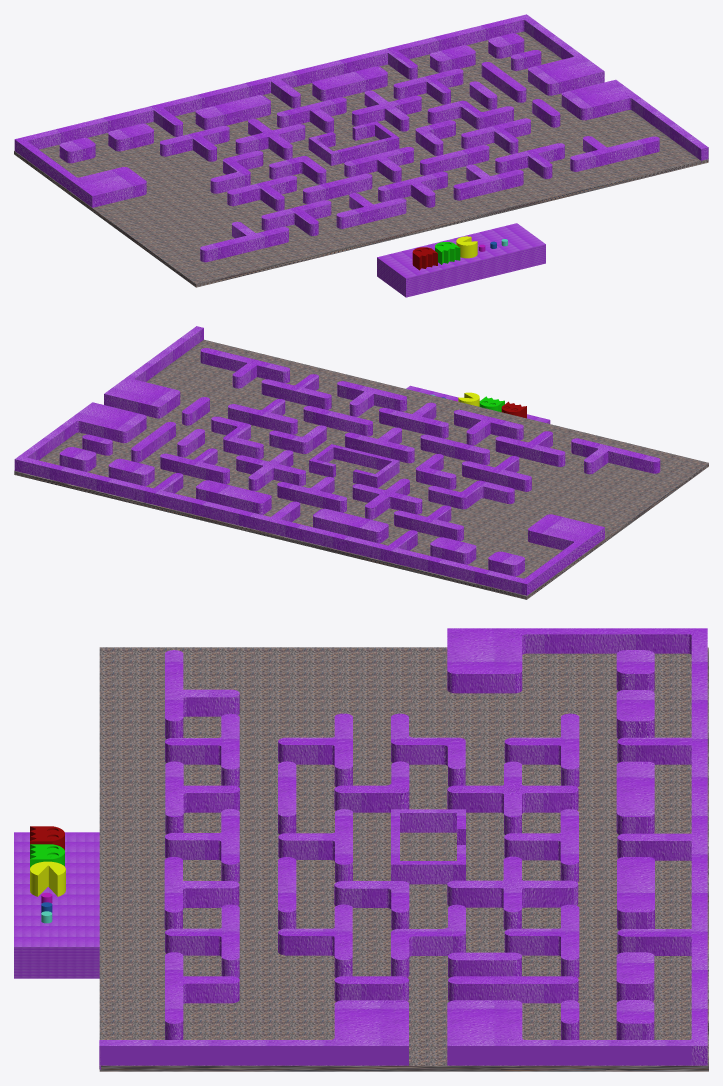
File: texturedMaze4.obj
The picture shows the model from 3 angles, top to bottom: view 1: azimuth 30°, elevation 25°; view 2: azimuth 150°, elevation 25°; view 3: azimuth 270°, elevation 25°; orthographic projection. The views are drawn at different scales.
Parts seen in each view (by area): view 1: floor_floor_Plane_Material.001_floor_Plane_Material.001_Mat.006, floor_floor_Plane_Material.001_floor_Plane_Material.001_Mat.008, Cube.001_Cube.002, Cube.002_Cube.003, floor_floor_Plane_Material.001_floor_Plane_Material.001_Mat.002, floor_floor_Plane_Material.001_floor_Plane_Material.001_Mat.003; view 2: floor_floor_Plane_Material.001_floor_Plane_Material.001_Mat.006, floor_floor_Plane_Material.001_floor_Plane_Material.001_Mat.008, Cube.001_Cube.002, Cube.002_Cube.003; view 3: floor_floor_Plane_Material.001_floor_Plane_Material.001_Mat.008, floor_floor_Plane_Material.001_floor_Plane_Material.001_Mat.006, Cube.001_Cube.002, floor_floor_Plane_Material.001_floor_Plane_Material.001_Mat.000.
Part boxes in pixels (<box>): floor_floor_Plane_Material.001_floor_Plane_Material.001_Mat.006: <box>15,14,708,297</box>; floor_floor_Plane_Material.001_floor_Plane_Material.001_Mat.008: <box>15,31,700,283</box>; Cube.001_Cube.002: <box>14,151,708,287</box>; Cube.002_Cube.003: <box>14,139,92,207</box>; floor_floor_Plane_Material.001_floor_Plane_Material.001_Mat.002: <box>412,247,437,270</box>; floor_floor_Plane_Material.001_floor_Plane_Material.001_Mat.003: <box>435,242,460,264</box>; floor_floor_Plane_Material.001_floor_Plane_Material.001_Mat.006: <box>14,326,660,595</box>; floor_floor_Plane_Material.001_floor_Plane_Material.001_Mat.008: <box>14,339,708,595</box>; Cube.001_Cube.002: <box>14,463,708,599</box>; Cube.002_Cube.003: <box>527,527,604,595</box>; floor_floor_Plane_Material.001_floor_Plane_Material.001_Mat.008: <box>99,647,708,1065</box>; floor_floor_Plane_Material.001_floor_Plane_Material.001_Mat.006: <box>14,628,707,1068</box>; Cube.001_Cube.002: <box>99,647,708,1071</box>; floor_floor_Plane_Material.001_floor_Plane_Material.001_Mat.000: <box>30,861,65,896</box>.
Size of the model in its own units: 339 by 32.56 by 238.
Materials: 9 (3 with a texture image).
